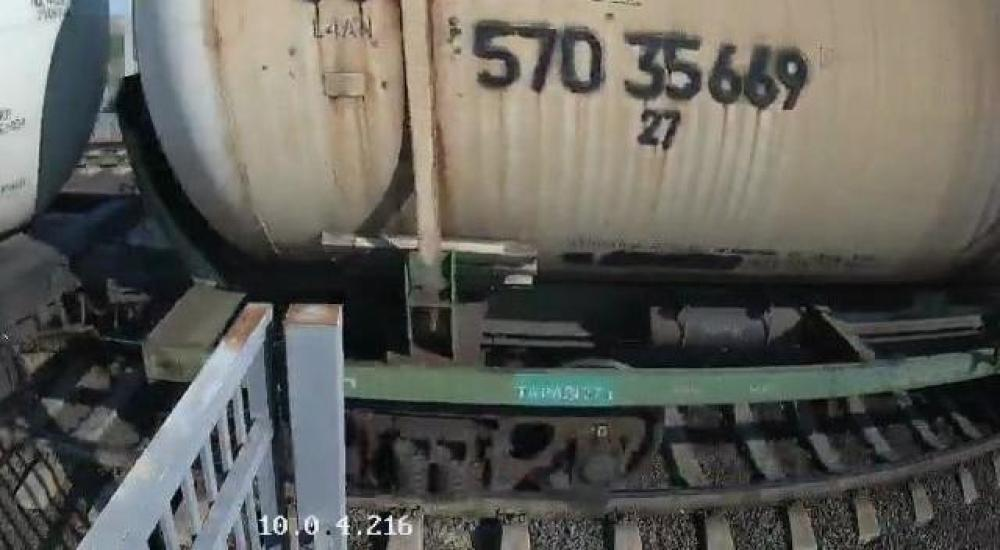Wagon-number: (469, 13, 810, 115)
